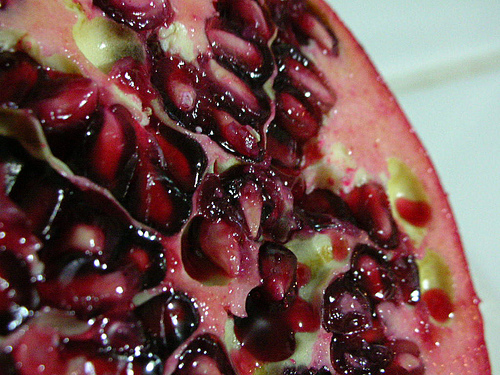pomogranate: (1, 0, 493, 374)
